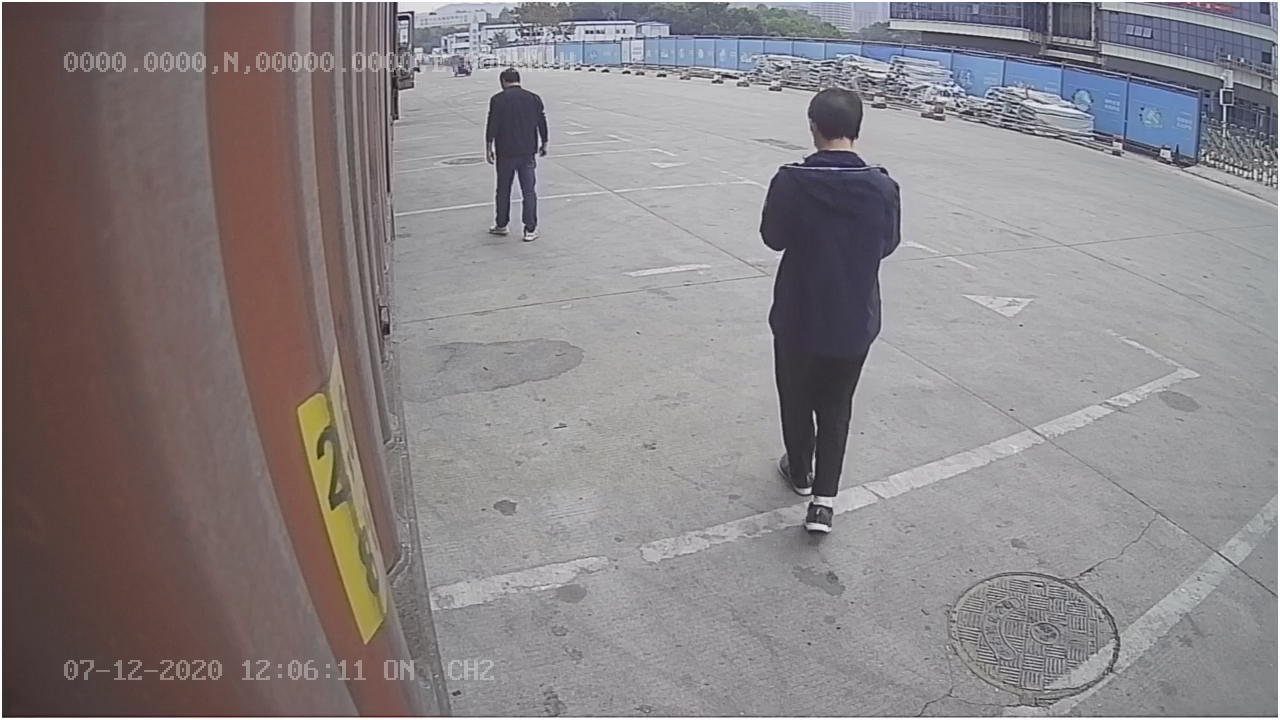person: (756, 86, 900, 529)
